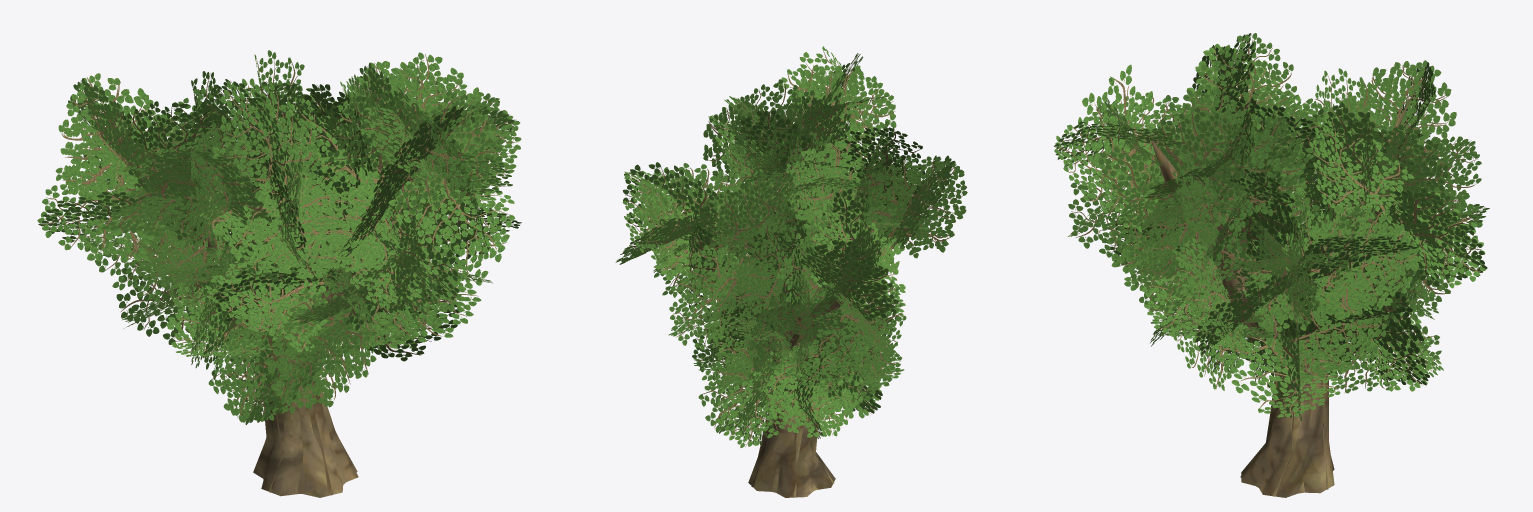
File: LodTree.obj
3 views of the same model, side by side, from view 1: azimuth 30°, elevation 25°; view 2: azimuth 150°, elevation 25°; view 3: azimuth 270°, elevation 25° (orthographic). The views are drawn at different scales.
Parts seen in each view (by area): view 1: Plane_Plane.003, Plane.044_Plane; view 2: Plane_Plane.003, Plane.044_Plane; view 3: Plane_Plane.003, Plane.044_Plane.
Part boxes in pixels (x1,y1,x2,y2): Plane_Plane.003: [37, 50, 521, 495]; Plane.044_Plane: [61, 52, 521, 497]; Plane_Plane.003: [617, 46, 967, 497]; Plane.044_Plane: [615, 64, 966, 497]; Plane_Plane.003: [1054, 33, 1489, 496]; Plane.044_Plane: [1084, 33, 1487, 497].
Bounding box in the file's own units: 8.06 × 7.84 × 7.99.
2 materials, 2 textured.
